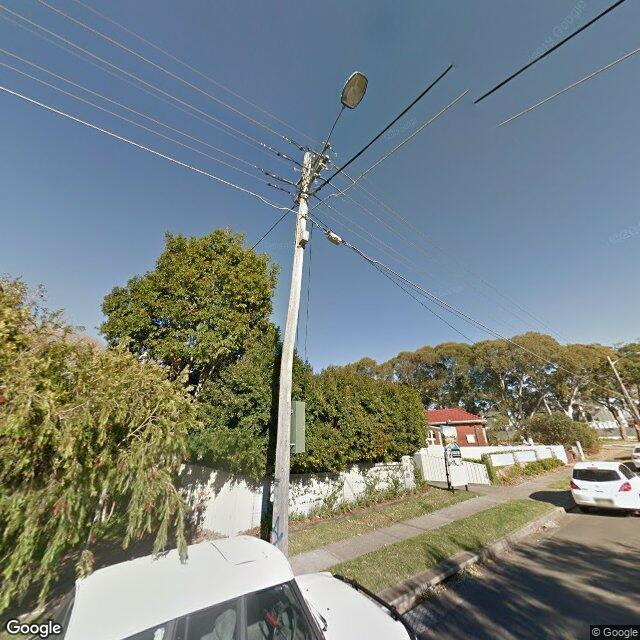crossarm: (292, 141, 331, 206)
streetlight: (305, 71, 369, 184), (612, 352, 640, 365)
timber-pole: (270, 151, 312, 557), (606, 356, 640, 420)
